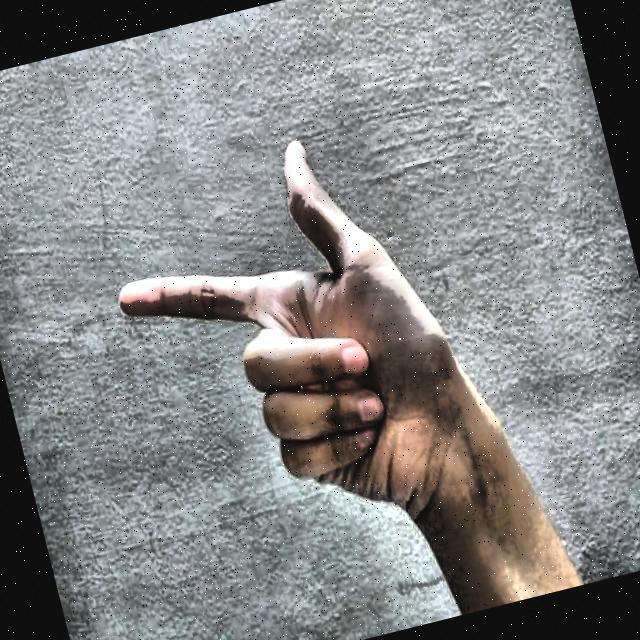Tho: (55, 51, 570, 616)
